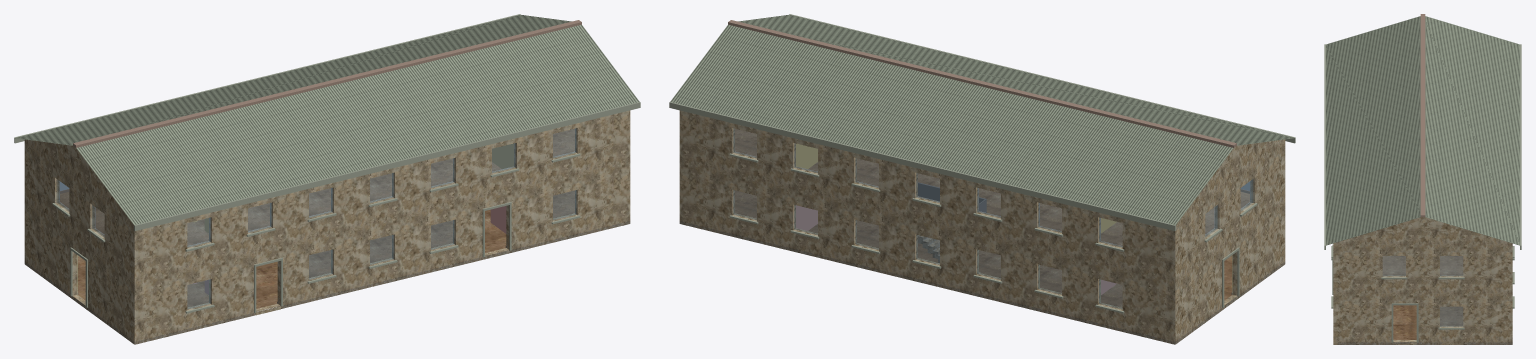
File: barracks-2s.zfix-v14.lod0.glb
3 views of the same model, side by side, from view 1: azimuth 30°, elevation 25°; view 2: azimuth 150°, elevation 25°; view 3: azimuth 270°, elevation 25° (orthographic). The views are drawn at different scales.
Parts seen in each view (by area): view 1: barracks-2s; view 2: barracks-2s; view 3: barracks-2s.
Part boxes in pixels (x1,y1,x2,y2): barracks-2s: (14, 14, 640, 344); barracks-2s: (669, 14, 1295, 344); barracks-2s: (1324, 14, 1521, 344).
Bounding box in the file's own units: 26.54 × 8.1 × 10.98.
Materials: 5 (3 with a texture image).
